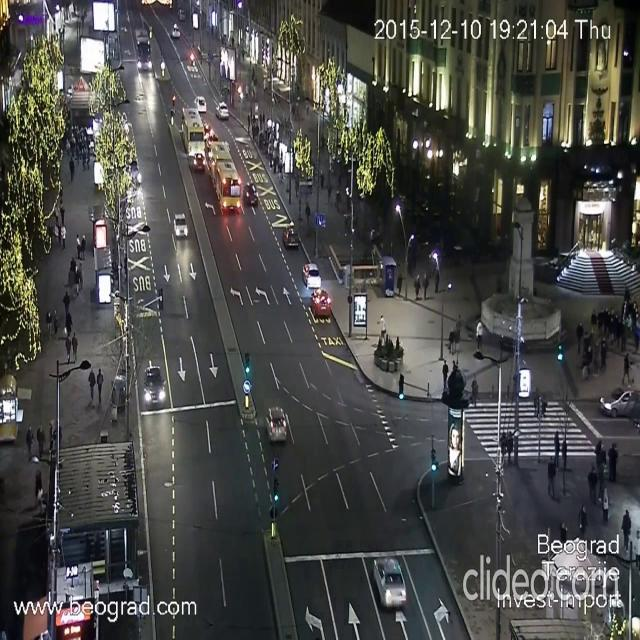bus: (208, 138, 240, 212), (181, 109, 207, 174), (132, 30, 153, 70)
car: (372, 556, 407, 610), (599, 387, 640, 416), (143, 362, 166, 403), (265, 406, 287, 443), (310, 288, 332, 317), (302, 262, 321, 289), (173, 212, 187, 238), (282, 227, 298, 249), (246, 185, 257, 207), (217, 102, 227, 119), (170, 25, 180, 37), (196, 95, 204, 109)
